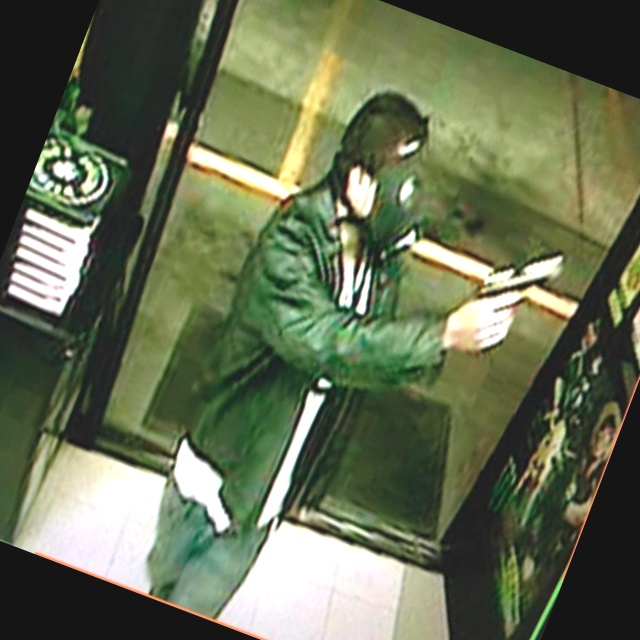gun: (446, 214, 578, 377)
